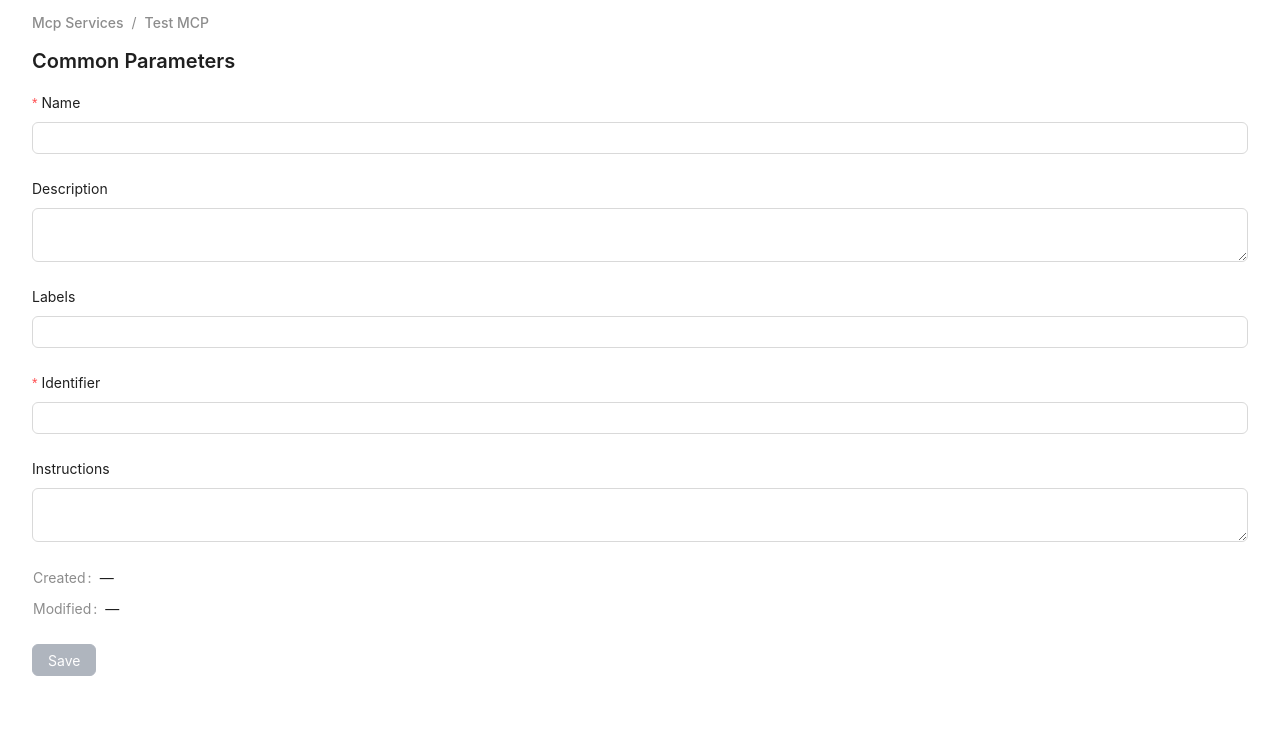
Test: McpServiceParametersPage › should show an error alert with the error message when saving fails
In the field labelled "Name": (640, 138) [32,122,1248,154], type "X"
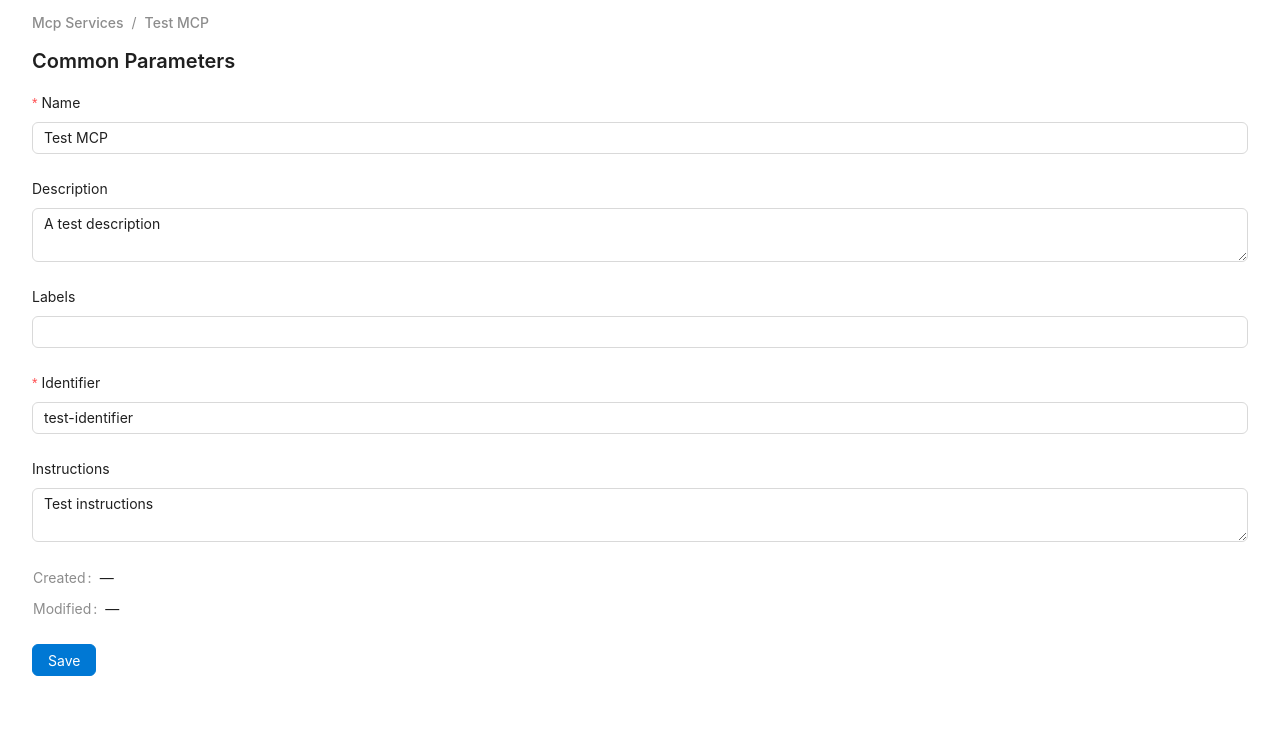
Click the button "Save": (64, 660) [32,644,96,676]
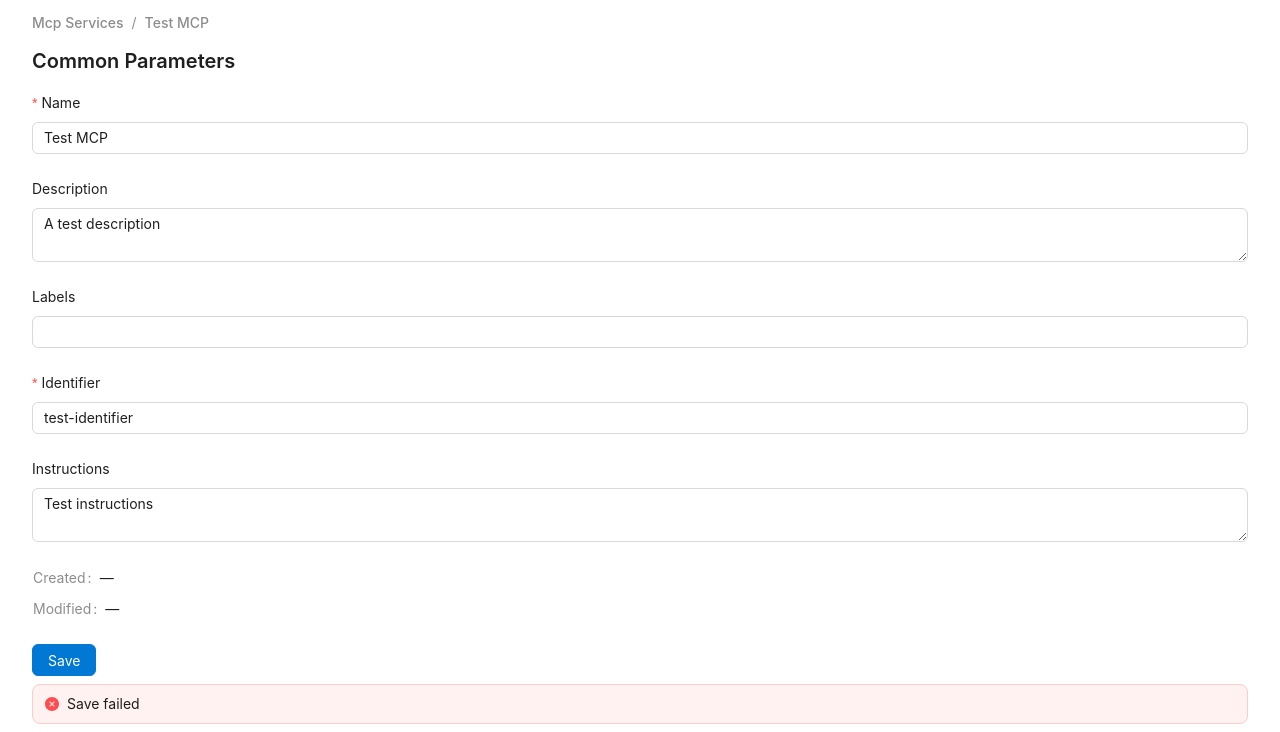
Result: the message "Save failed" is shown at [32,684,1248,724]
Result: the text "Save failed" is shown at [67,695,140,712]
